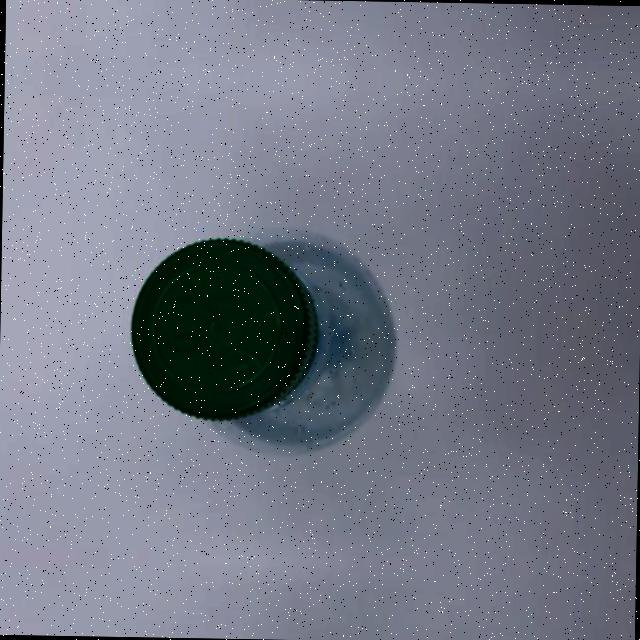Plastic: (94, 238, 356, 428)
